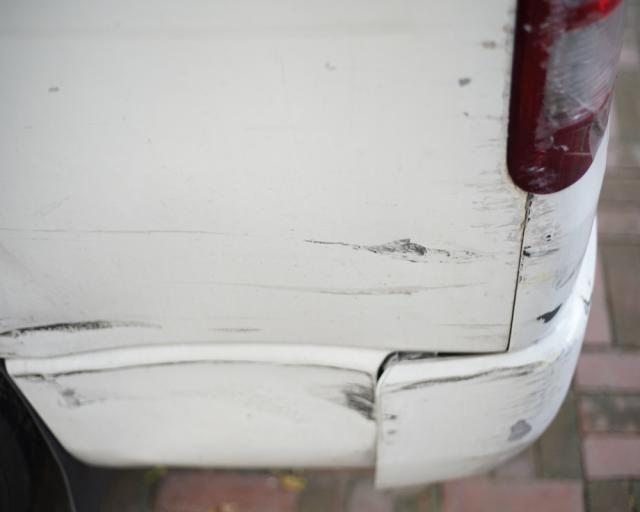scratch: (0, 0, 530, 435), (387, 194, 588, 469)
